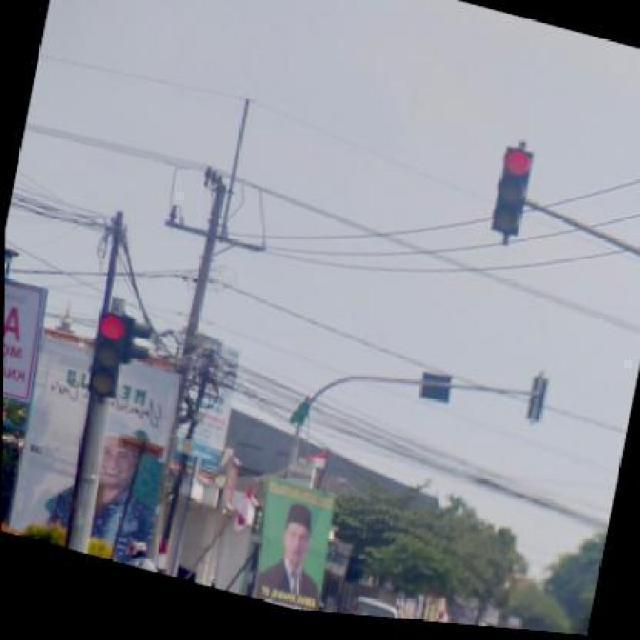red_light: (490, 139, 532, 242), (88, 310, 133, 396)
